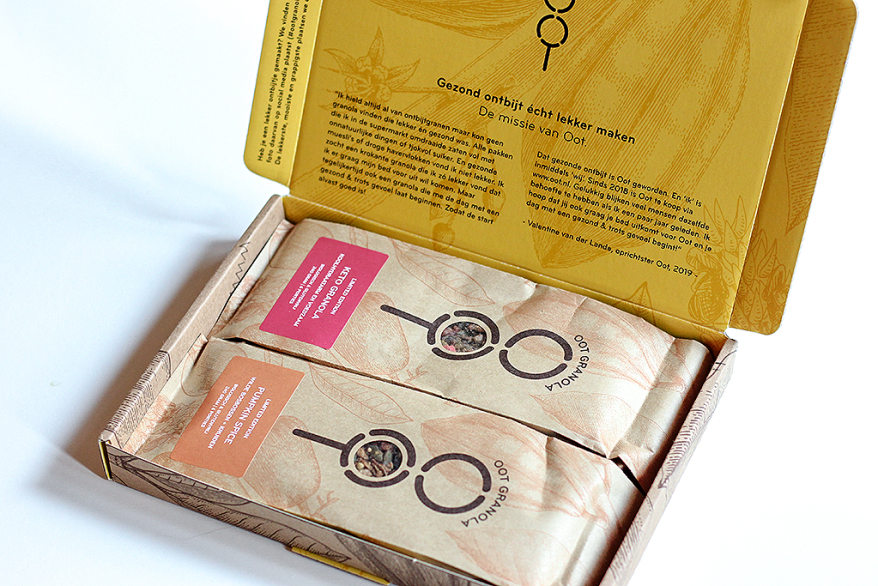KetoGranola: (256, 236, 395, 353)
